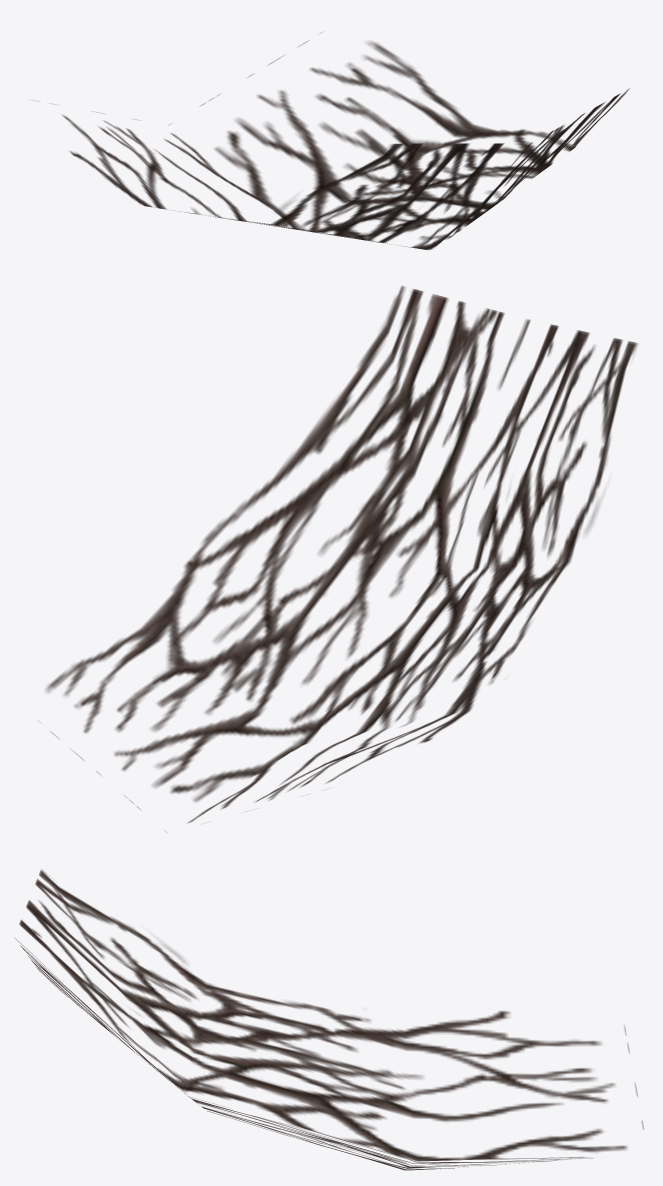
3 renders of one model, top to bottom at view 1: azimuth 30°, elevation 25°; view 2: azimuth 150°, elevation 25°; view 3: azimuth 270°, elevation 25°, orthographic. The views are drawn at different scales.
Parts seen in each view (by area): view 1: model_Object48; view 2: model_Object48; view 3: model_Object48.
Part boxes in pixels (<box>): model_Object48: <box>33,32,629,249</box>; model_Object48: <box>46,286,637,832</box>; model_Object48: <box>15,869,643,1170</box>.
Bounding box in the file's own units: 1.35 × 0.9222 × 2.2.
1 material, 1 textured.
